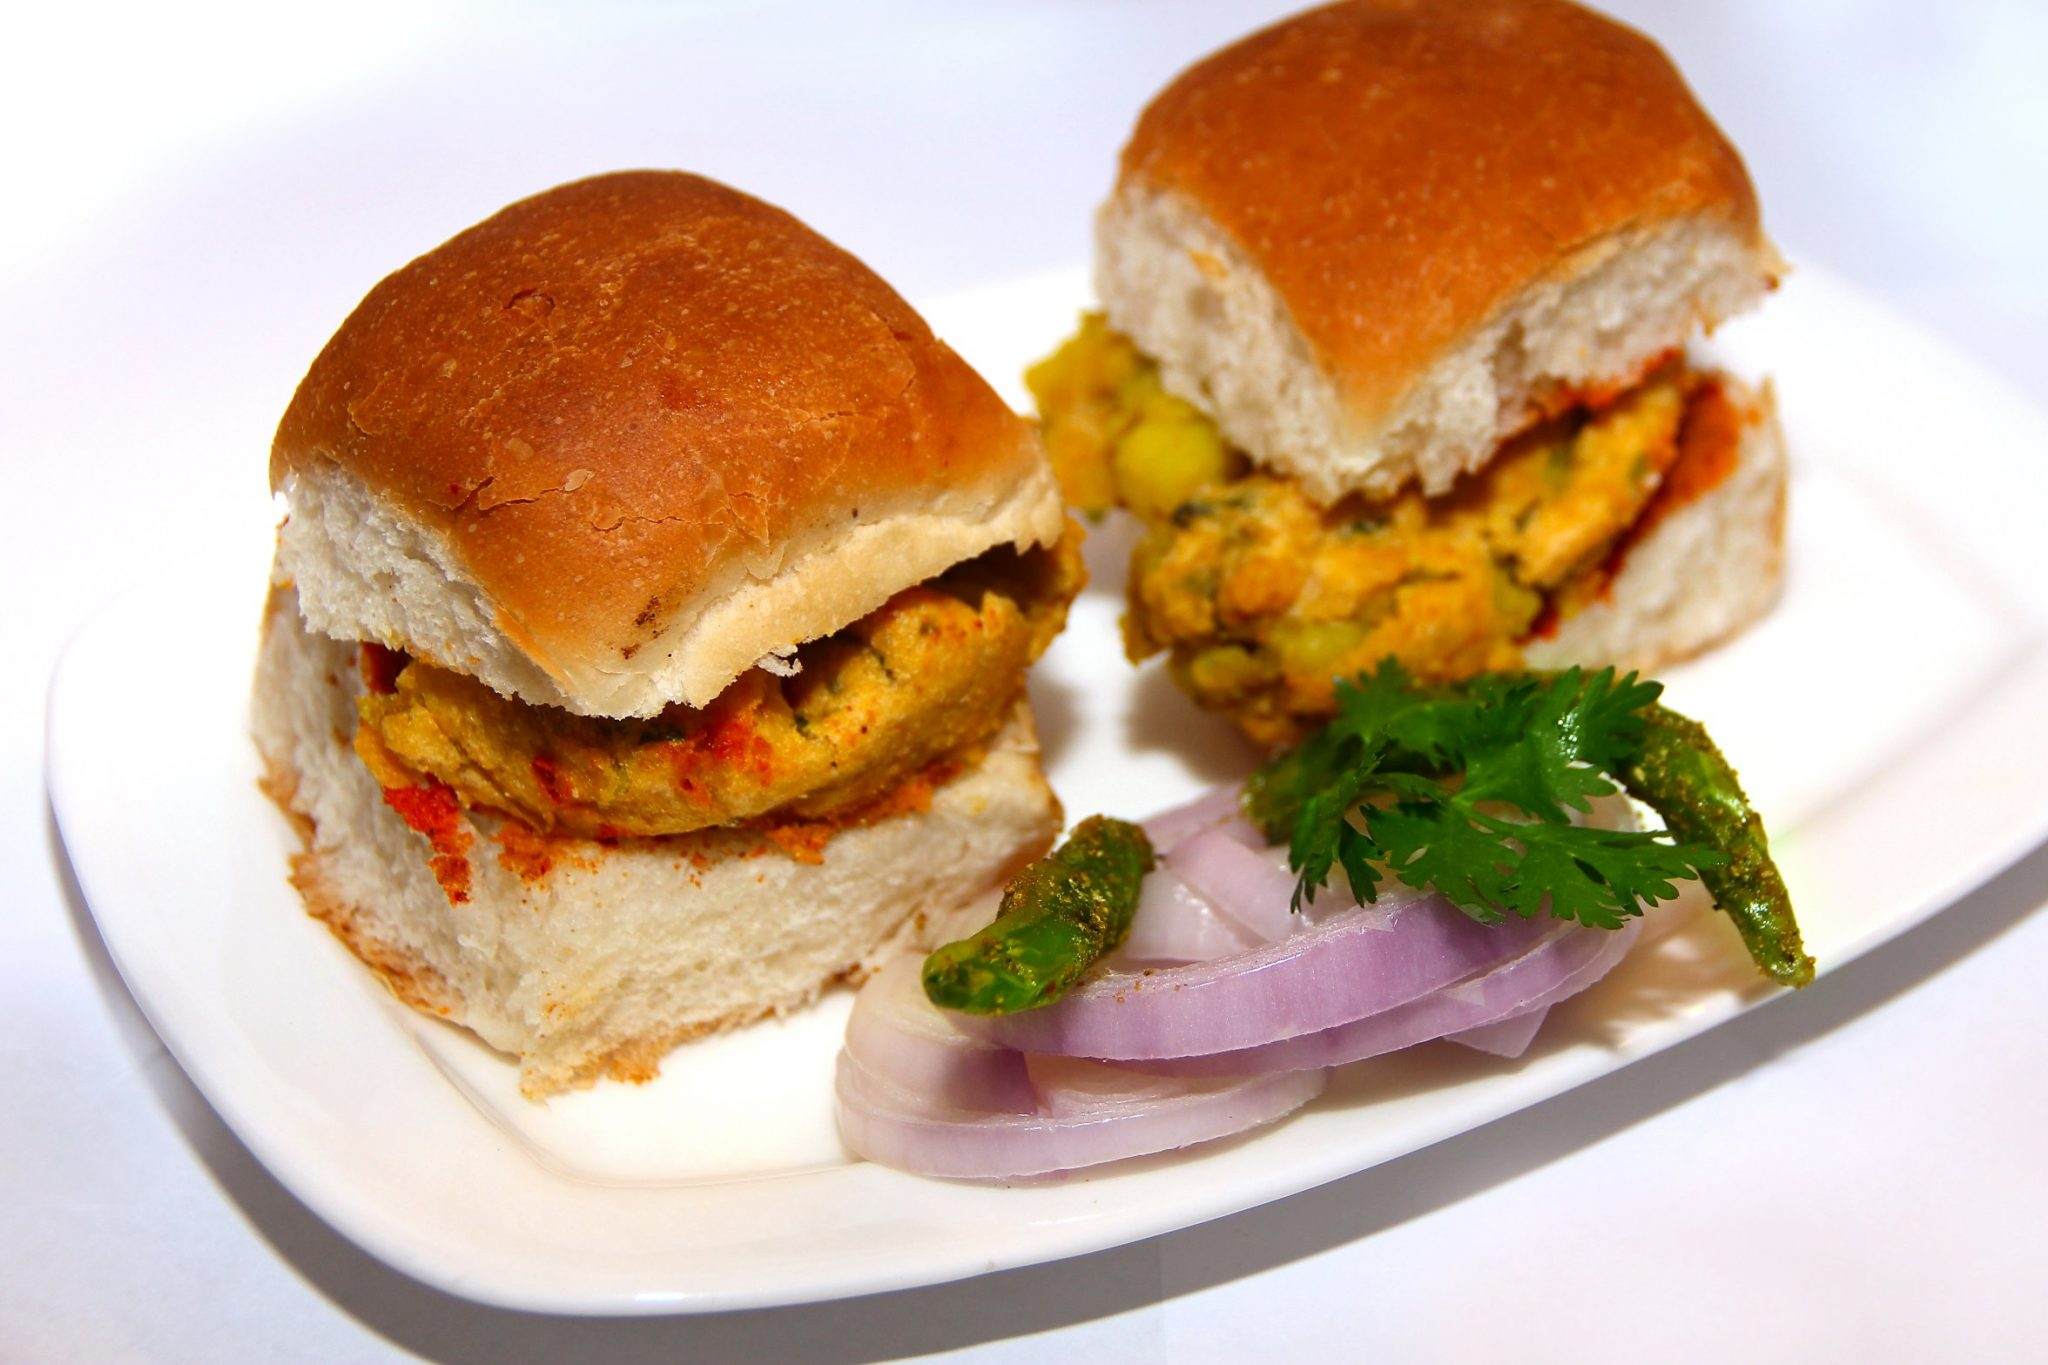vada pav: (260, 174, 965, 958), (1089, 21, 1812, 666)
